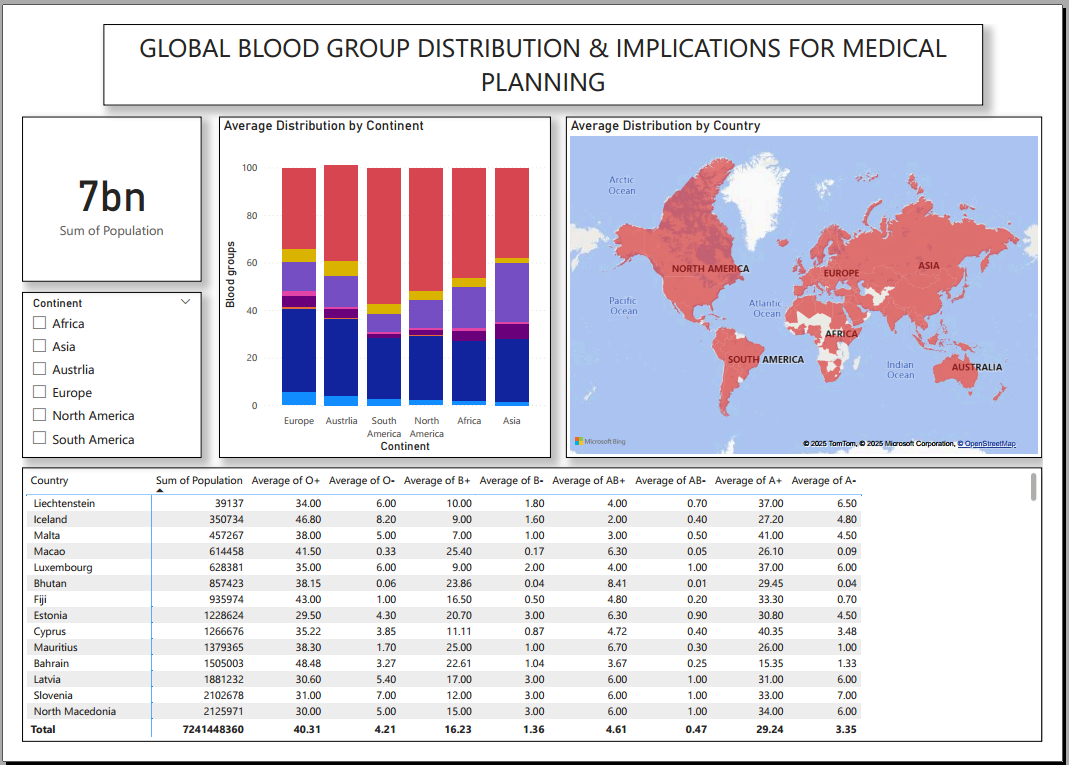

The page's visual inventory and layout, read from the dashboard file:
{"tool":"powerbi","page":{"name":"Page 1","canvas":[1280,900],"ordinal":0},"visuals":[{"type":"filledMap","title":"Average Distribution by Country","fields":{"Category":["blood_type_distribution_by_country.Country"]},"box":[682,116.3,597.3,427.9],"z":0},{"type":"columnChart","title":"Average Distribution by Continent","fields":{"Category":["blood_type_distribution_by_country.Continent"],"Y":["Avg(blood_type_distribution_by_country.A-)","Avg(blood_type_distribution_by_country.A+)","Avg(blood_type_distribution_by_country.AB-)","Avg(blood_type_distribution_by_country.AB+)","Avg(blood_type_distribution_by_country.B-)","Avg(blood_type_distribution_by_country.B+)","Avg(blood_type_distribution_by_country.O-)","Avg(blood_type_distribution_by_country.O+)"]},"box":[247,116.3,416.4,427.9],"z":1},{"type":"pivotTable","fields":{"Values":["Sum(blood_type_distribution_by_country.Population)","Avg(blood_type_distribution_by_country.O+)","Avg(blood_type_distribution_by_country.O-)","Avg(blood_type_distribution_by_country.B+)","Avg(blood_type_distribution_by_country.B-)","Avg(blood_type_distribution_by_country.AB+)","Avg(blood_type_distribution_by_country.AB-)","Avg(blood_type_distribution_by_country.A+)","Avg(blood_type_distribution_by_country.A-)"],"Rows":["blood_type_distribution_by_country.Country"]},"box":[0,555.7,1279.4,344.6],"z":2},{"type":"slicer","fields":{"Values":["blood_type_distribution_by_country.Continent"]},"box":[0,336,225.4,208.2],"z":3},{"type":"card","fields":{"Values":["Sum(blood_type_distribution_by_country.Population)"]},"box":[0,116.3,225.4,206.8],"z":4},{"type":"textbox","box":[101.9,0,1102.7,101.9],"z":5}]}

Visuals, with their boxes in screenshot pixels (x1, y1, x2, y2), scaled from the page's 1280x900 canvas onto the 1069x765 screenshot:
"Average Distribution by Country" filledMap: (left=570, top=99, right=1068, bottom=463)
"Average Distribution by Continent" columnChart: (left=206, top=99, right=554, bottom=463)
pivotTable - Sum(blood_type_distribution_by_country.Population) x Avg(blood_type_distribution_by_country.O+): (left=0, top=472, right=1068, bottom=764)
slicer - blood_type_distribution_by_country.Continent: (left=0, top=286, right=188, bottom=463)
card - Sum(blood_type_distribution_by_country.Population): (left=0, top=99, right=188, bottom=275)
textbox: (left=85, top=0, right=1006, bottom=87)
